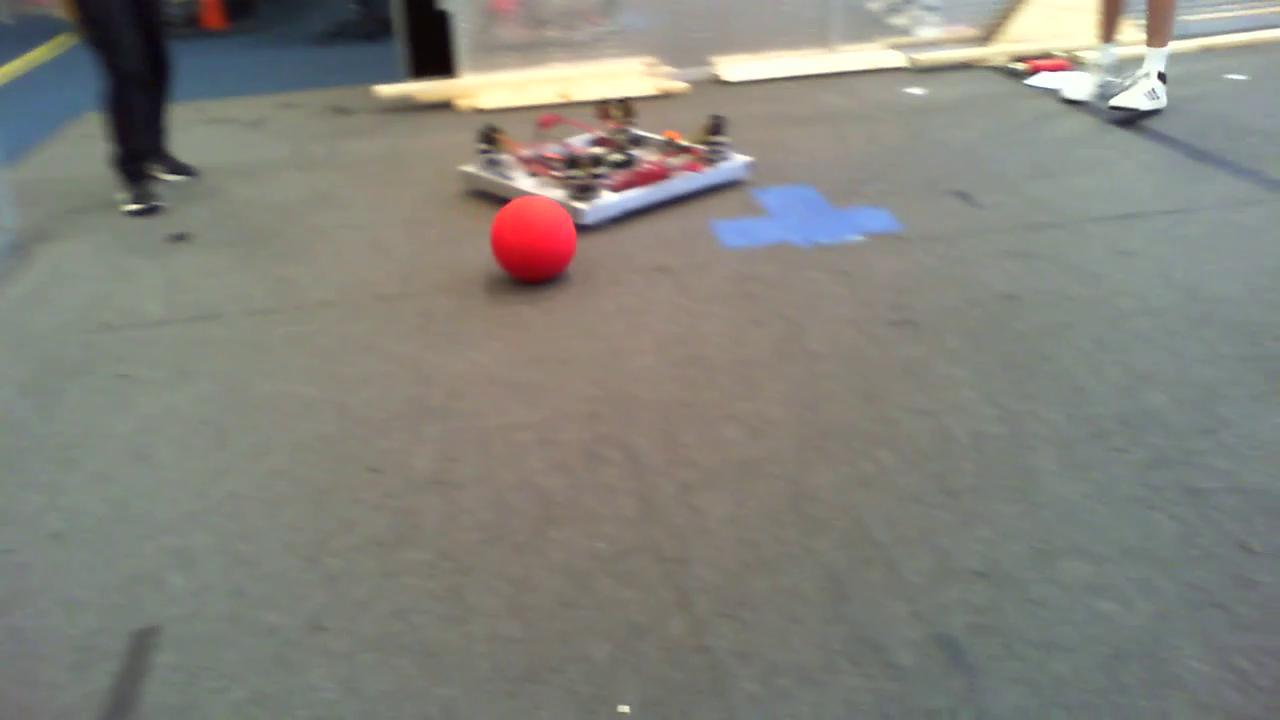Red_Ball: (475, 189, 598, 281)
